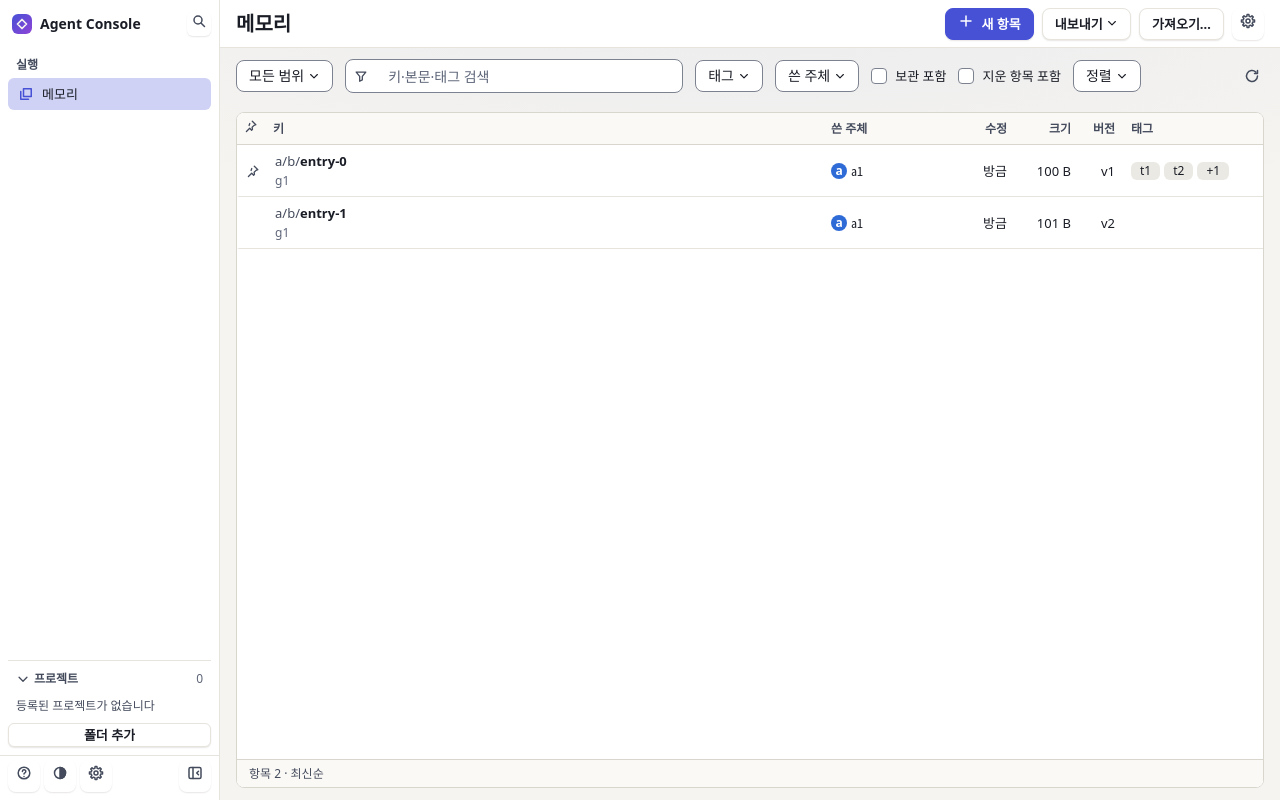
Test: 메모리 화면: 역할·배치 › 본문 폭 1180 미만이면 2칸: 나무 칸이 없고 [범위 ▾] 팝오버가 도구줄 맨 앞에 있다
Click the button "모든 범위".
click(285, 76)  # box left=236, top=60, right=333, bottom=92
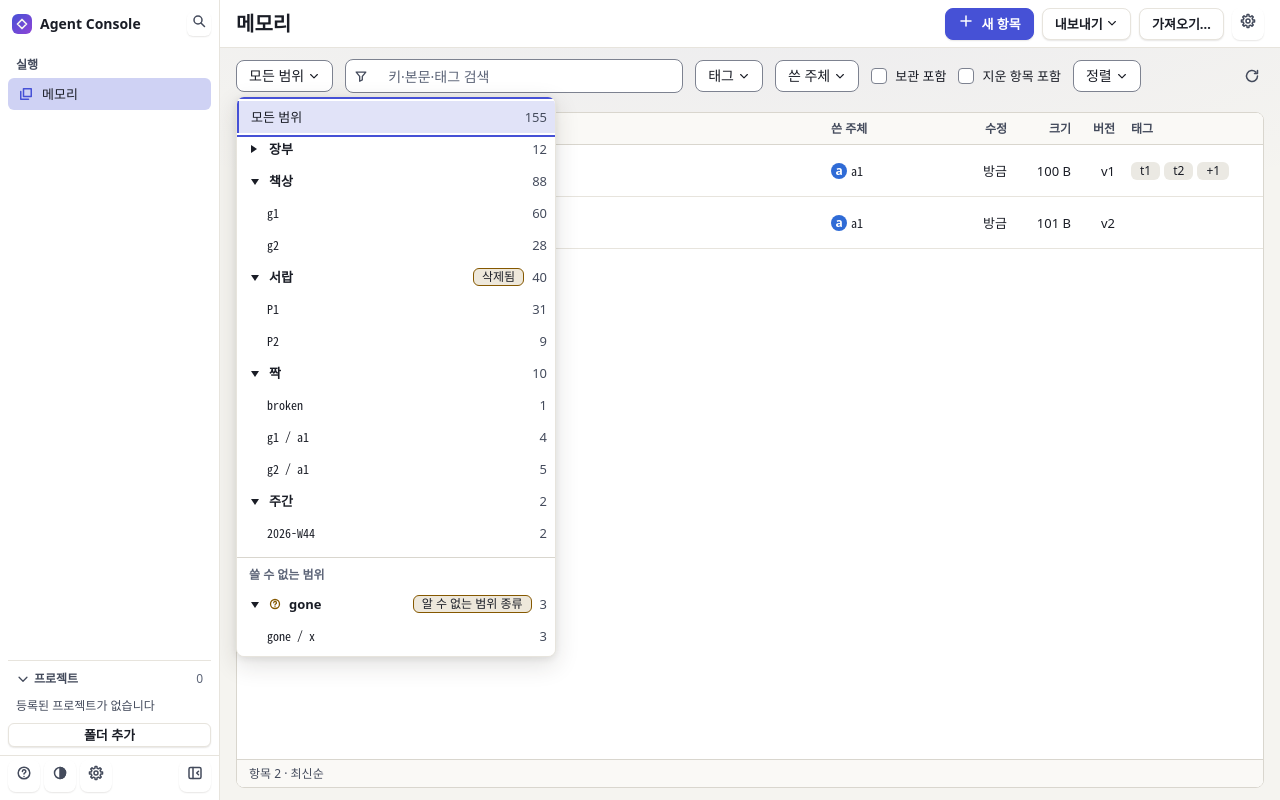
Expected: the element named "메모리 범위 나무" is shown, left=237, top=97, right=555, bottom=656
